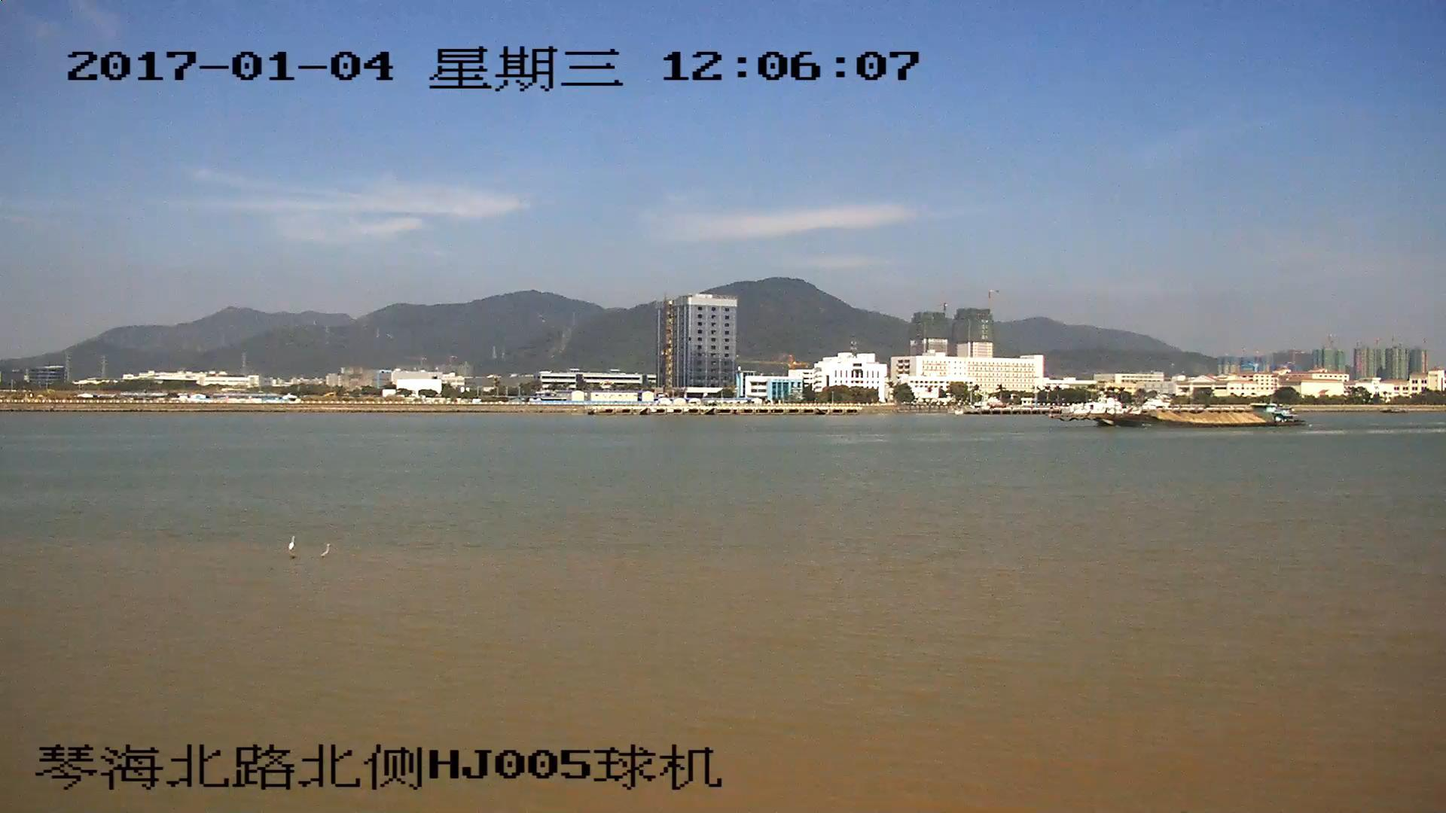ore carrier: (1040, 399, 1304, 429)
